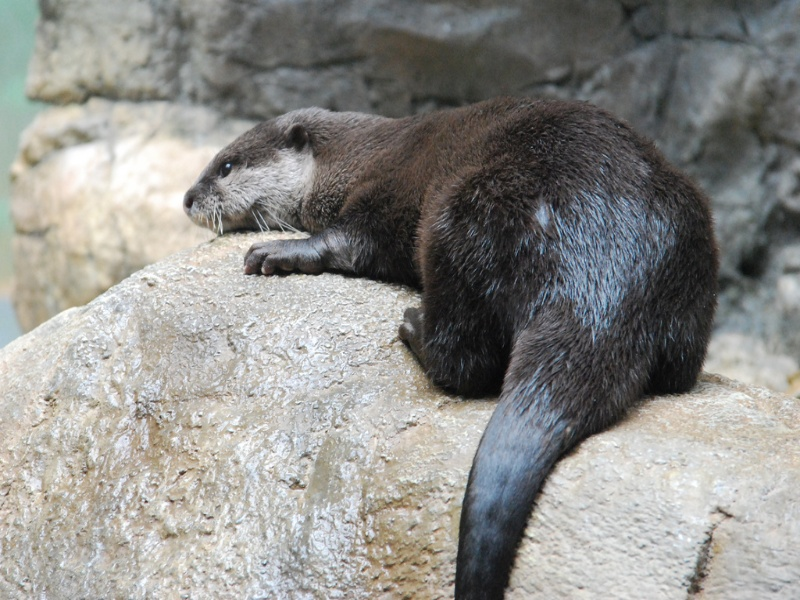minkish: (169, 98, 721, 590)
